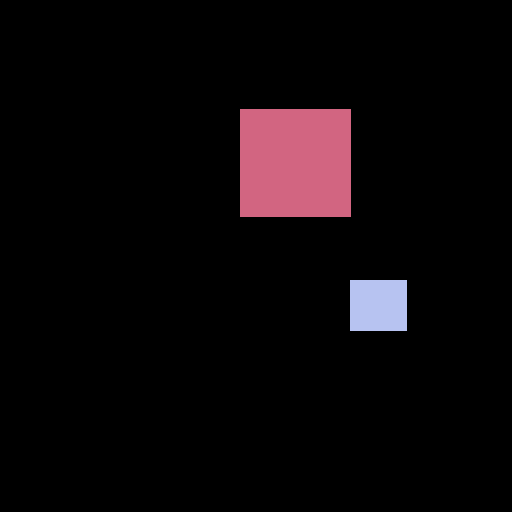rectangle: (350, 280, 406, 330)
square: (240, 109, 350, 216)
